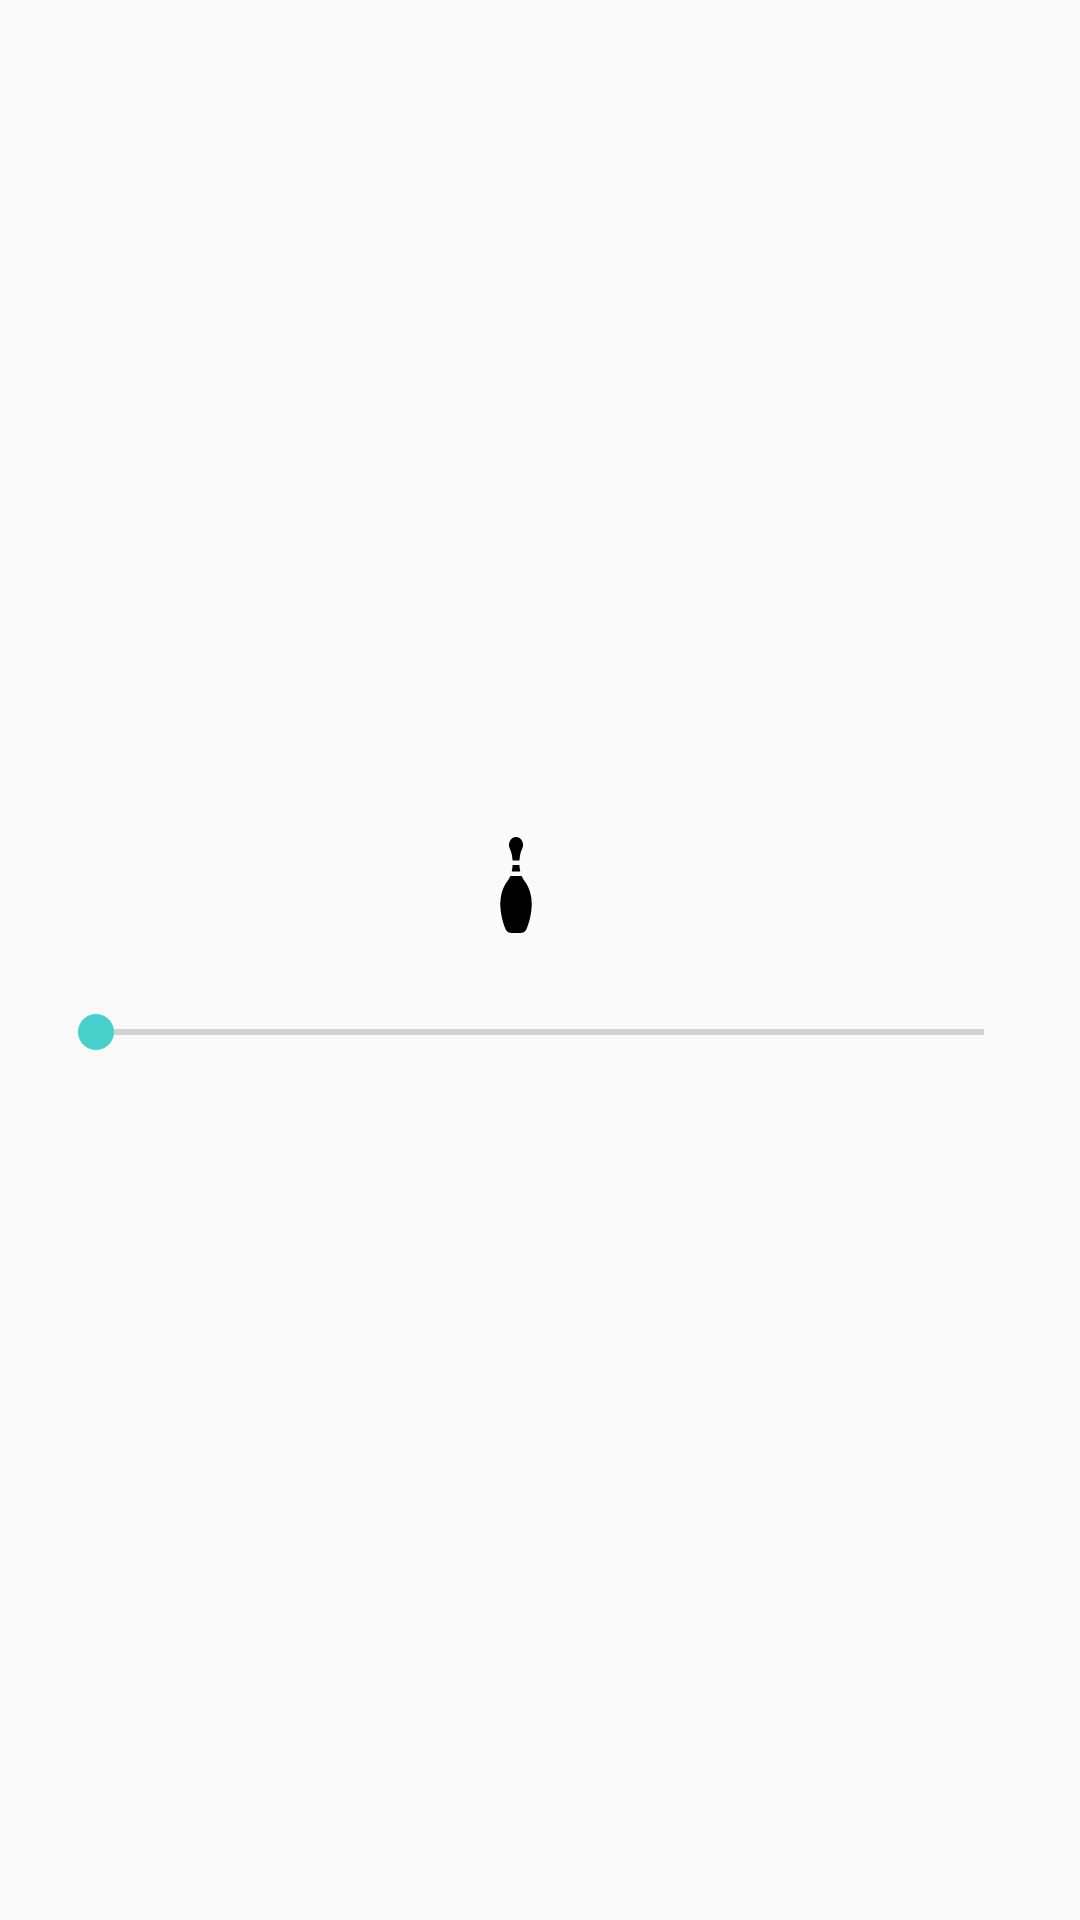

Icon bounding boxes for this 1080*1920 phone screenshot, format (x1, y1, x2, y2):
bowling pin: (500, 837, 532, 933)
